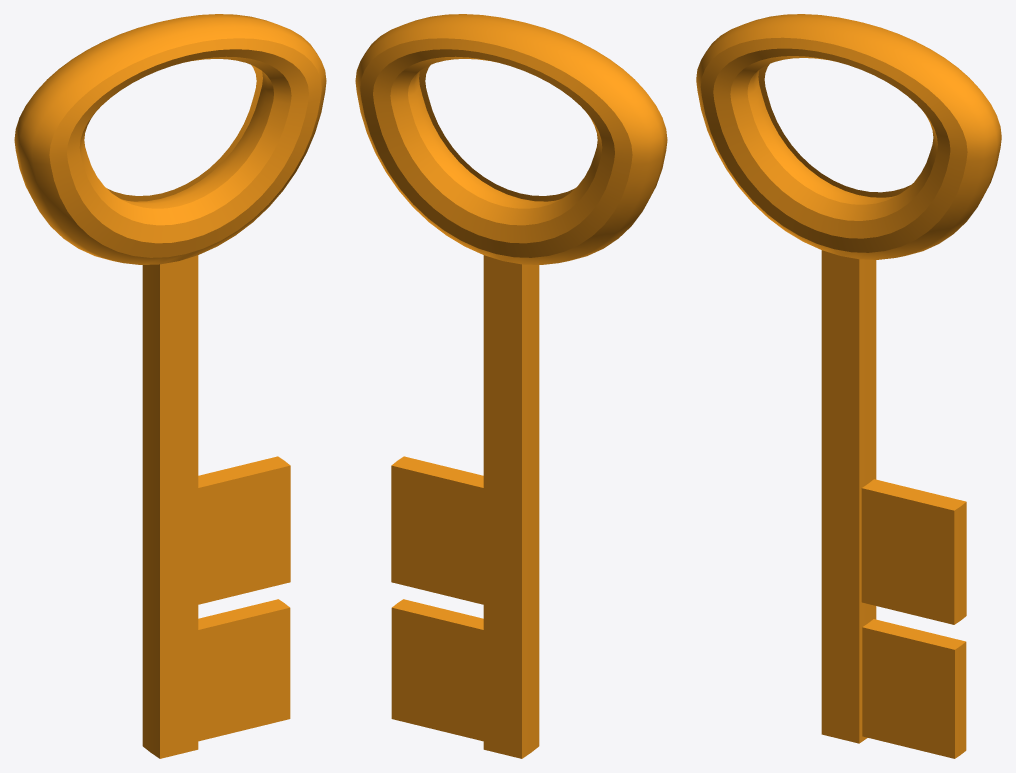
File: Bad Key.fbx
3 views of the same model, side by side, from view 1: azimuth 30°, elevation 25°; view 2: azimuth 150°, elevation 25°; view 3: azimuth 330°, elevation 25° (orthographic). The views are drawn at different scales.
Parts seen in each view (by area): view 1: Key; view 2: Key; view 3: Key.
Boxes of the visible parts, x1,y1,x2,y2 form: Key: [14, 14, 326, 758]; Key: [355, 14, 667, 758]; Key: [696, 14, 1001, 758].
Bounding box in the file's own units: 250 × 570 × 50.
